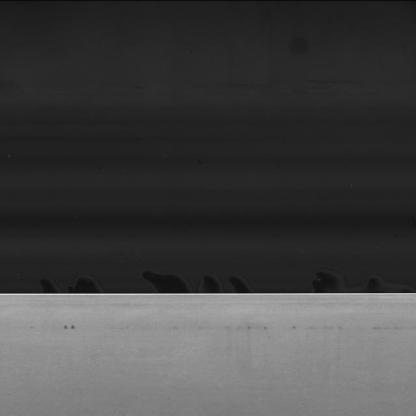oil_spot: (233, 323, 414, 336), (54, 320, 82, 332)
